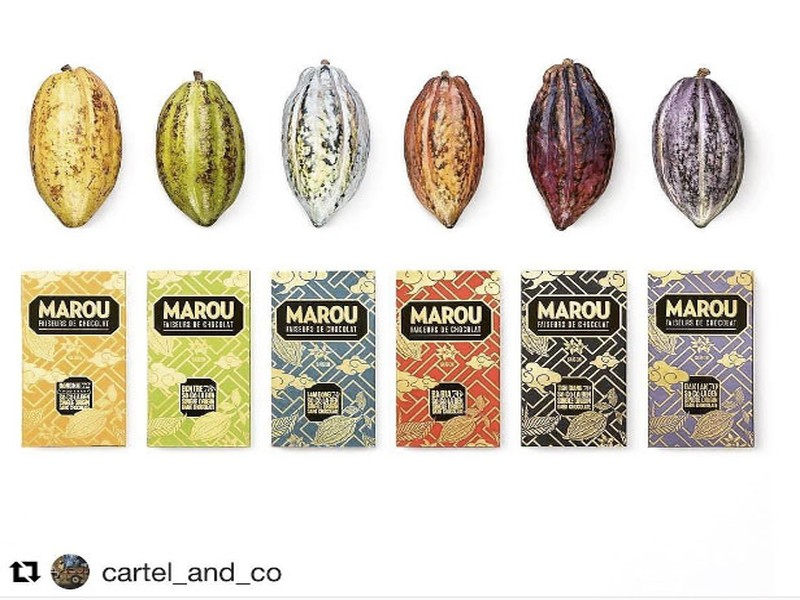Cacaopod: (26, 63, 126, 228), (649, 65, 744, 231), (282, 57, 370, 229), (154, 67, 248, 227), (526, 60, 613, 232), (400, 69, 494, 228)
